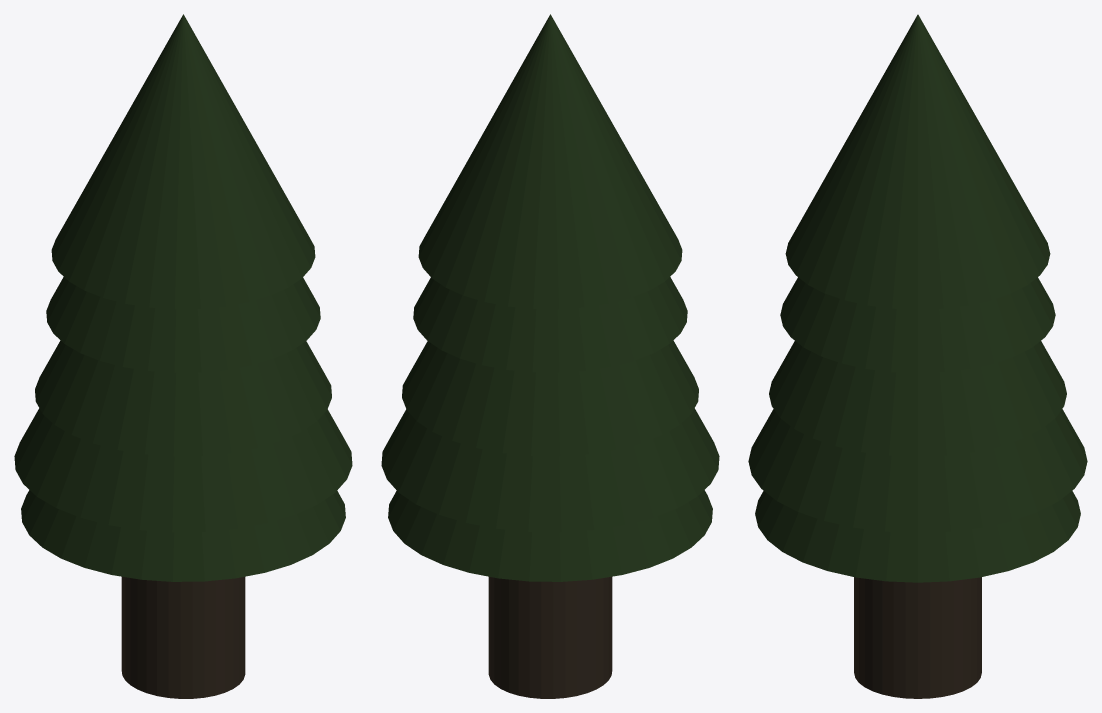
Rendered from Tree1.fbx.
3 renders of one model, left to right at view 1: azimuth 30°, elevation 25°; view 2: azimuth 150°, elevation 25°; view 3: azimuth 270°, elevation 25°, orthographic.
Parts seen in each view (by area): view 1: Leaves, Wood; view 2: Leaves, Wood; view 3: Leaves, Wood.
Part boxes in pixels (box(x1,y1,x2,y2)): Leaves: box(14, 14, 352, 581); Wood: box(121, 576, 245, 698); Leaves: box(381, 14, 719, 581); Wood: box(488, 576, 612, 698); Leaves: box(748, 14, 1087, 582); Wood: box(854, 577, 981, 698).
Size of the model in its own units: 426 by 913 by 426.
2 materials, 2 textured.
